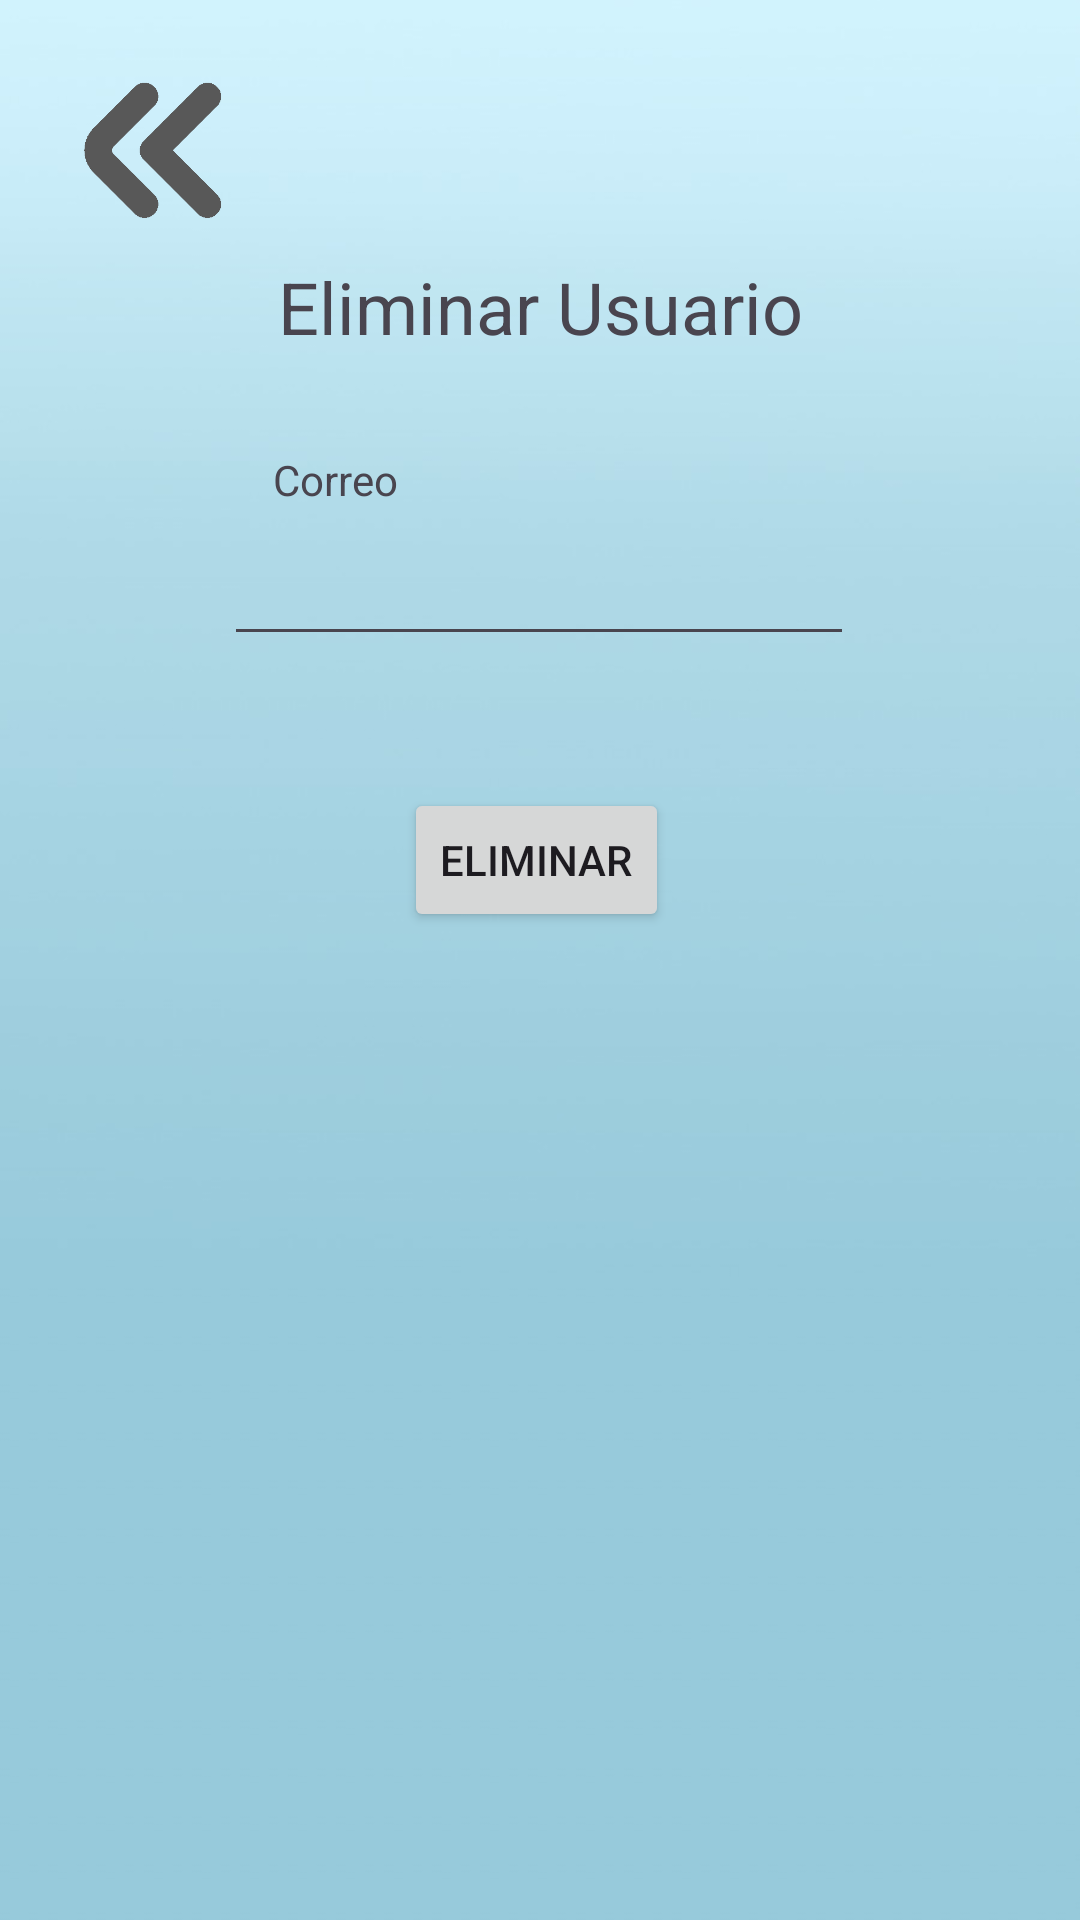

Screen size 1080*1920. Icon name, then its box in pixels as (x1, y1, x2, y2):
regresar: (84, 83, 221, 218)
